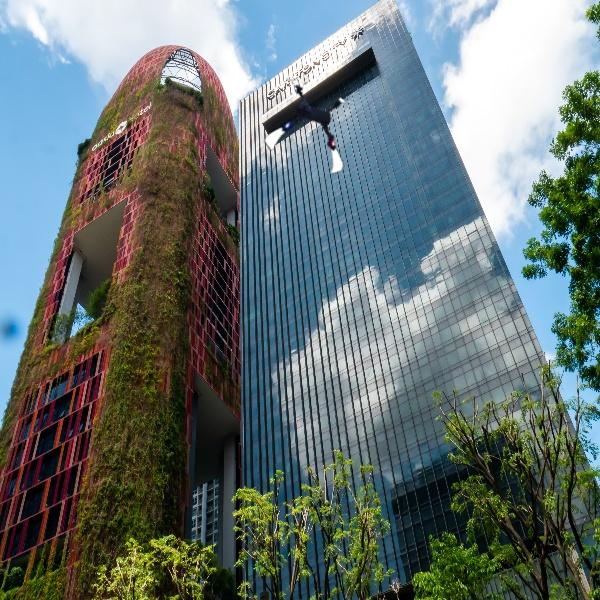drone: (265, 79, 360, 174)
